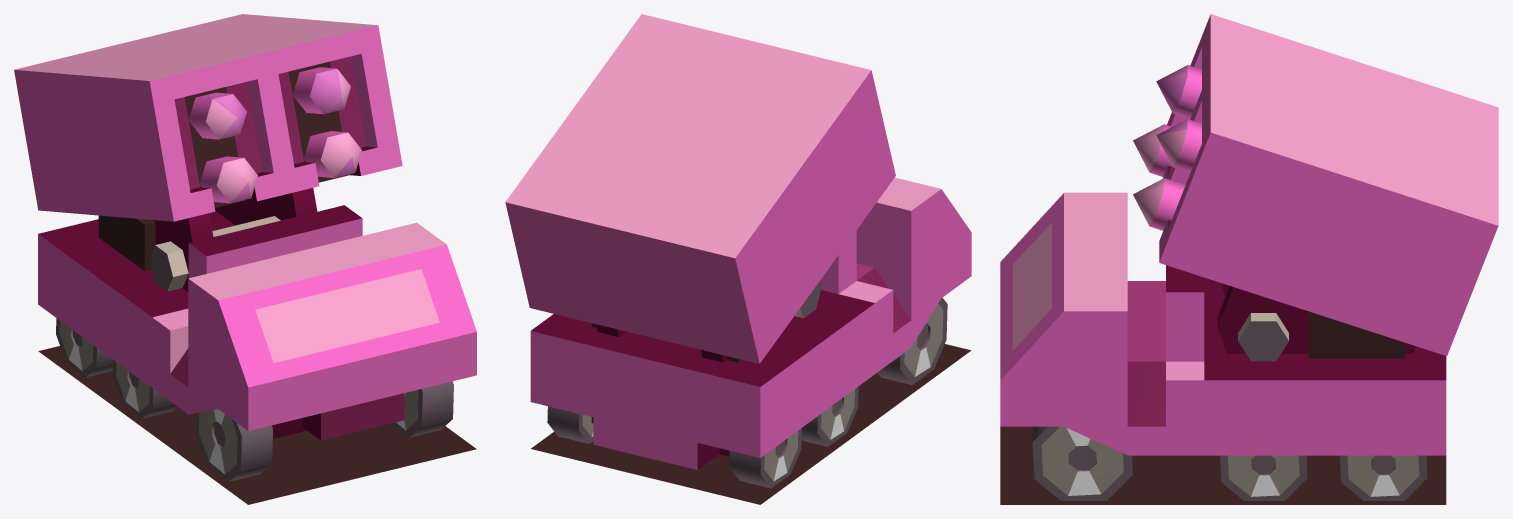
Rendered from RocketMesh.PinkCosmos.glb.
3 views of the same model, side by side, from view 1: azimuth 30°, elevation 25°; view 2: azimuth 150°, elevation 25°; view 3: azimuth 270°, elevation 25° (orthographic). The views are drawn at different scales.
Parts seen in each view (by area): view 1: RocketMesh.PinkCosmos; view 2: RocketMesh.PinkCosmos; view 3: RocketMesh.PinkCosmos.
Part boxes in pixels (bbox=[...]): RocketMesh.PinkCosmos: bbox=[14, 14, 476, 504]; RocketMesh.PinkCosmos: bbox=[505, 14, 971, 504]; RocketMesh.PinkCosmos: bbox=[1000, 14, 1498, 504].
Size of the model in its own units: 1.1 by 1.63 by 1.96.
1 material, 1 textured.
